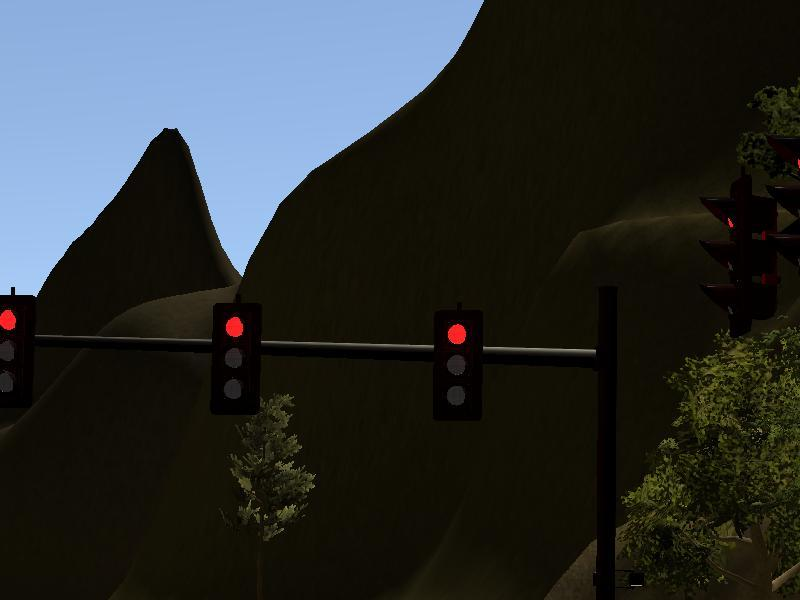Red: (433, 309, 482, 423), (211, 304, 259, 417), (1, 294, 35, 407)
